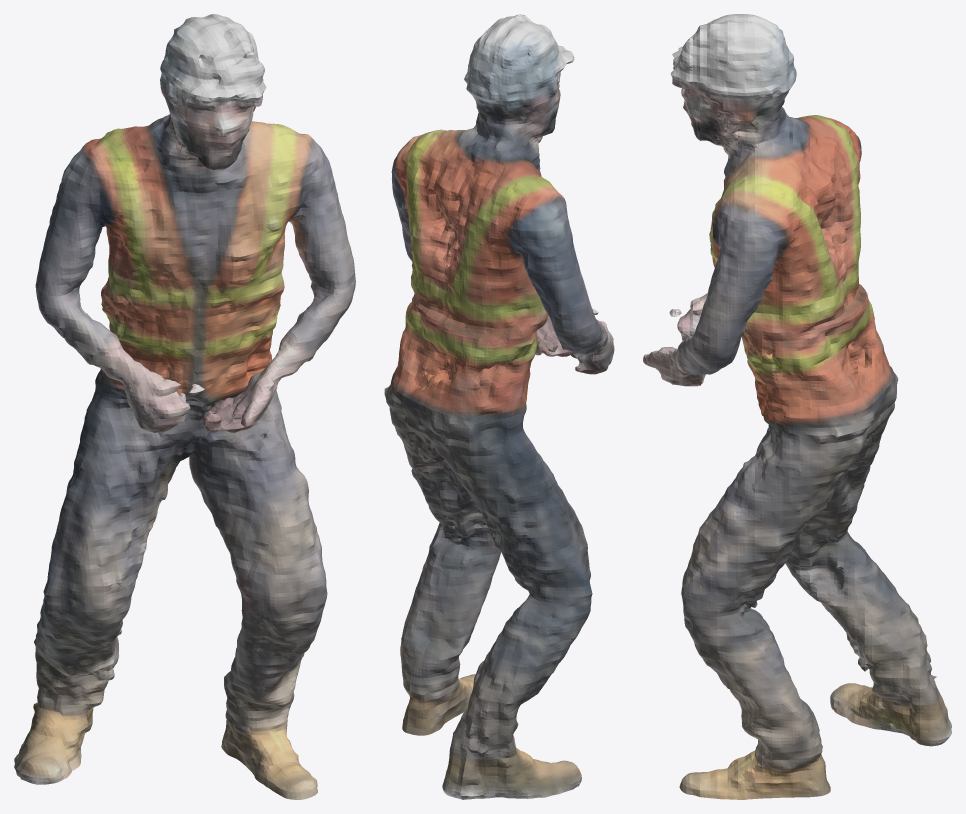
File: standup_15.glb
The picture shows the model from 3 angles, left to right: view 1: azimuth 30°, elevation 25°; view 2: azimuth 150°, elevation 25°; view 3: azimuth 270°, elevation 25°; orthographic projection. The views are drawn at different scales.
Parts seen in each view (by area): view 1: world; view 2: world; view 3: world.
Part boxes in pixels (x1=…): world: x1=14, y1=14, x2=355, y2=799; world: x1=384, y1=14, x2=614, y2=799; world: x1=643, y1=14, x2=951, y2=799.
Size of the model in its own units: 0.6646 by 1.86 by 0.7048.
